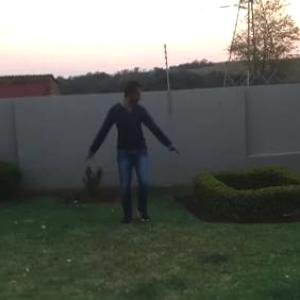land: (61, 76, 187, 254)
